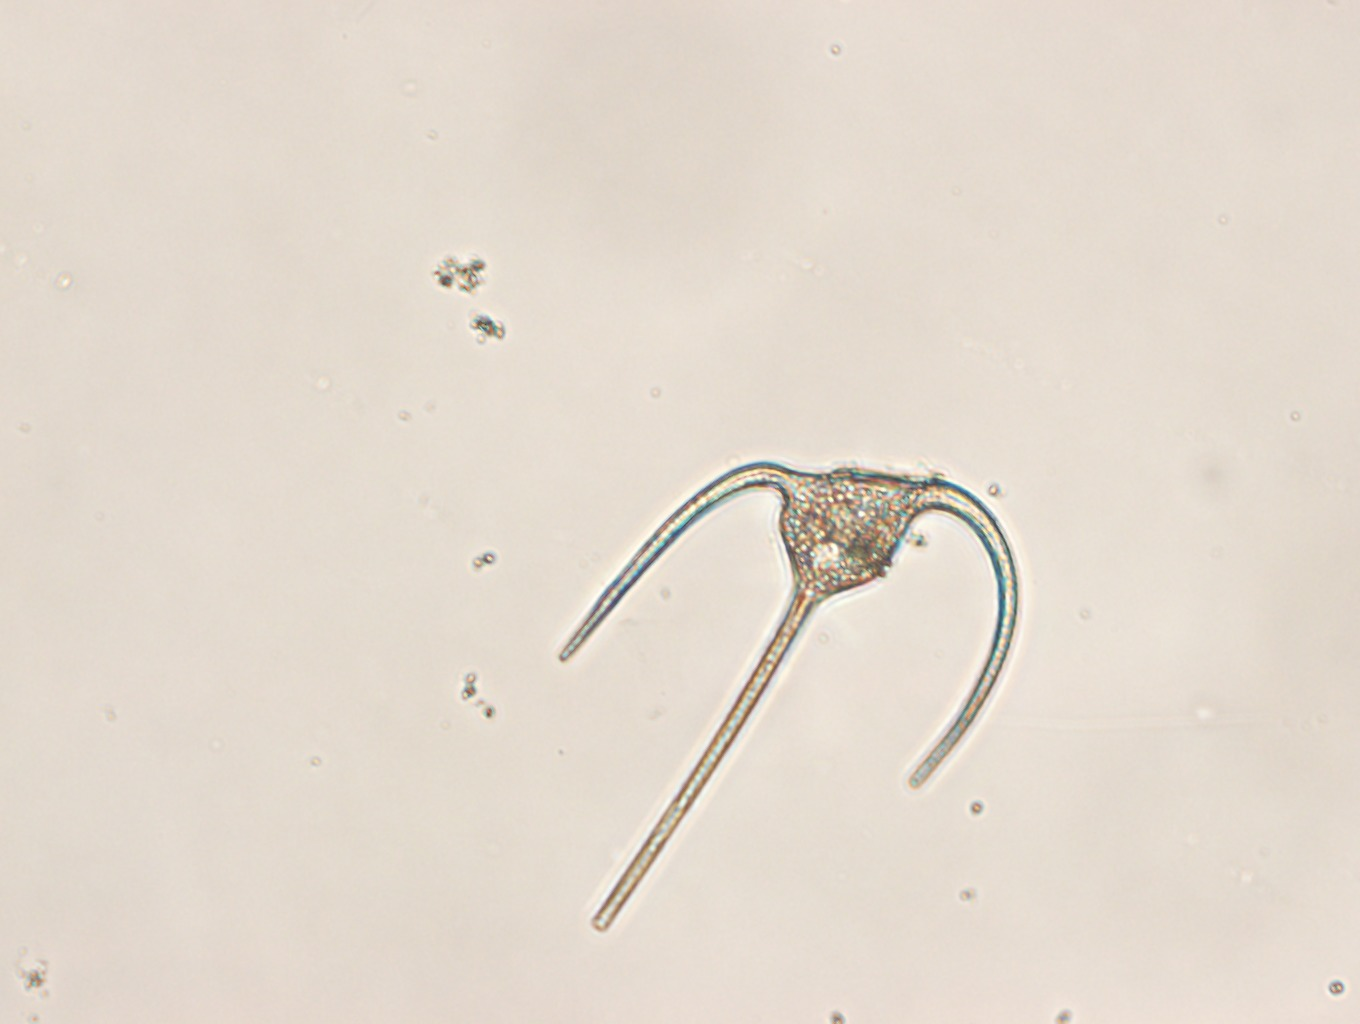ceratium trichoceros: (560, 463, 1020, 930)
